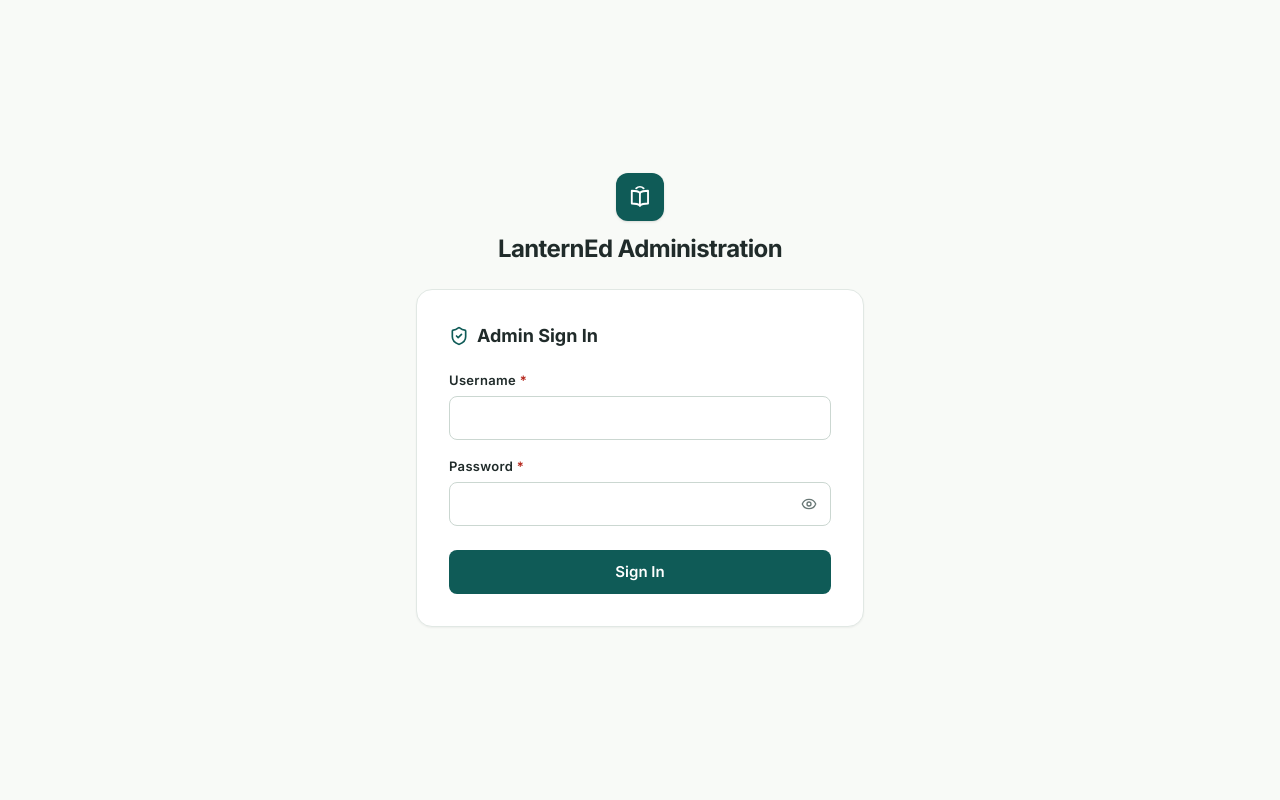
Test case: admin panel › signs in, lists colleges, and only reports a creation after the server confirms it
The image size is (1280, 800).
In the field labelled "Username *": (640, 418) top-left (449, 396), bottom-right (831, 440), type "admin"
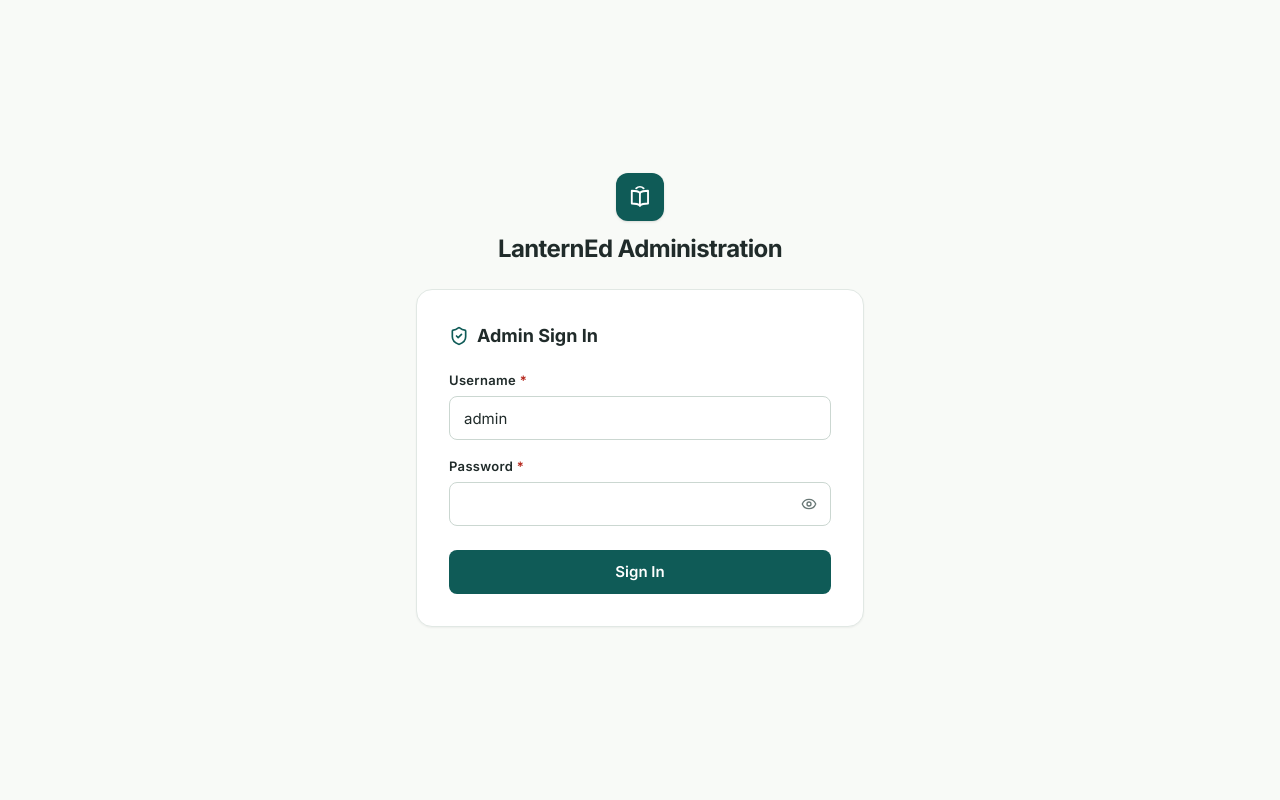
In the password field labelled "Password *": (640, 504) top-left (449, 482), bottom-right (831, 526), type "any-password"
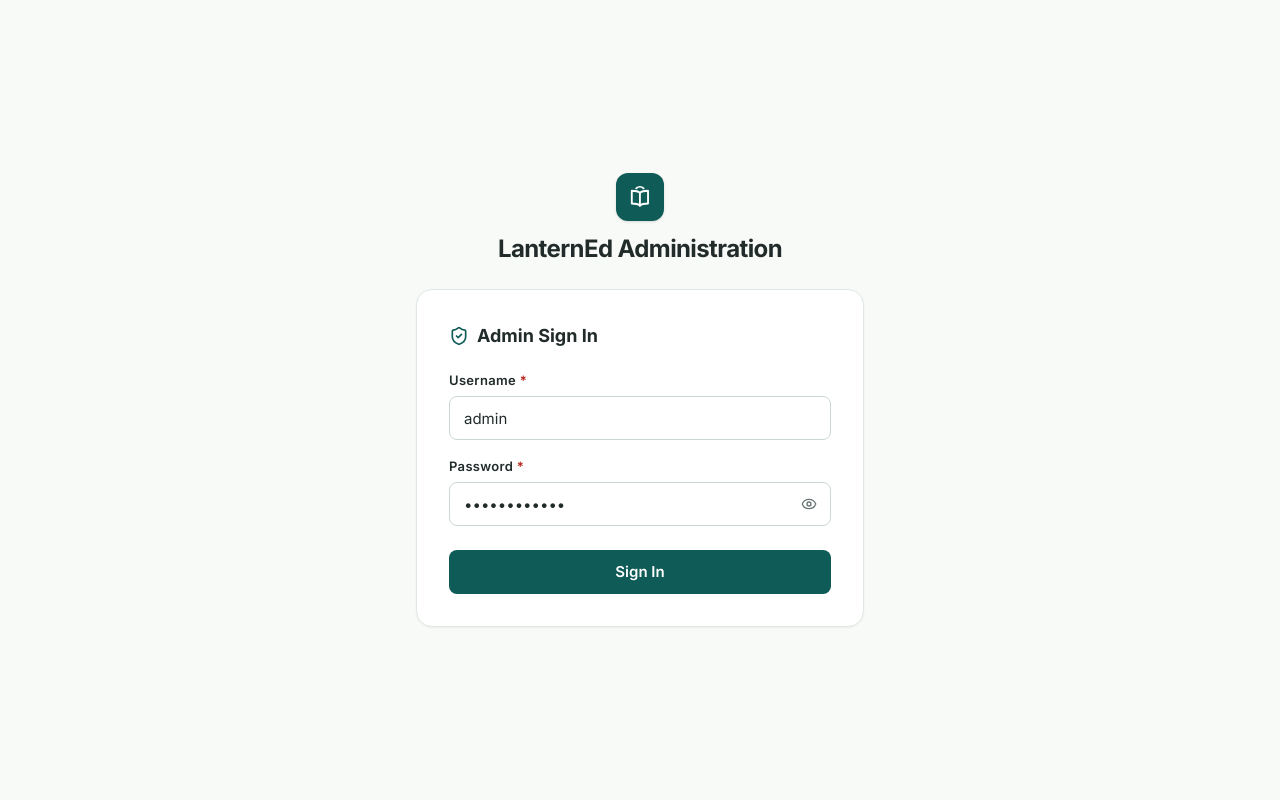
Click the button "Sign In": (640, 572) top-left (449, 550), bottom-right (831, 594)
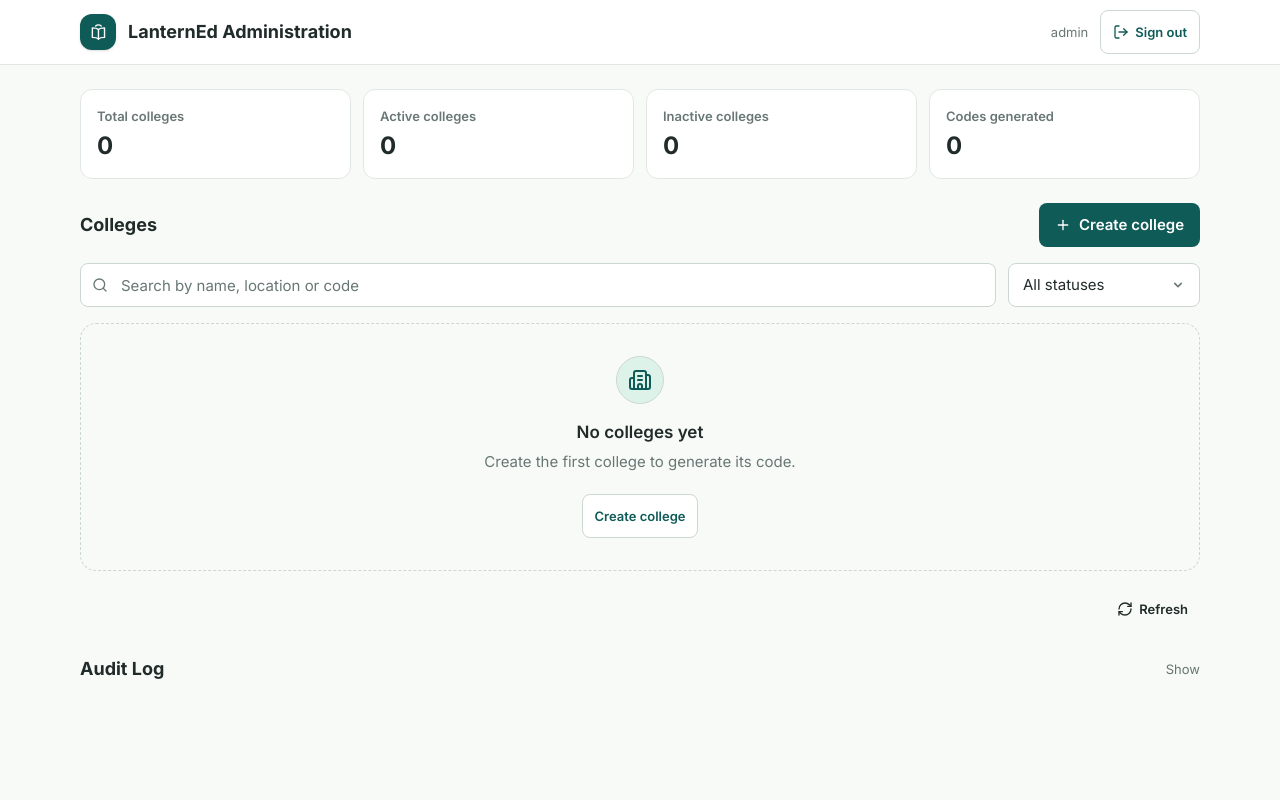
Now the heading "No colleges yet" is shown, box top-left (577, 420), bottom-right (703, 446)
Click the 1st button "Create college": (1120, 225) top-left (1039, 203), bottom-right (1200, 247)
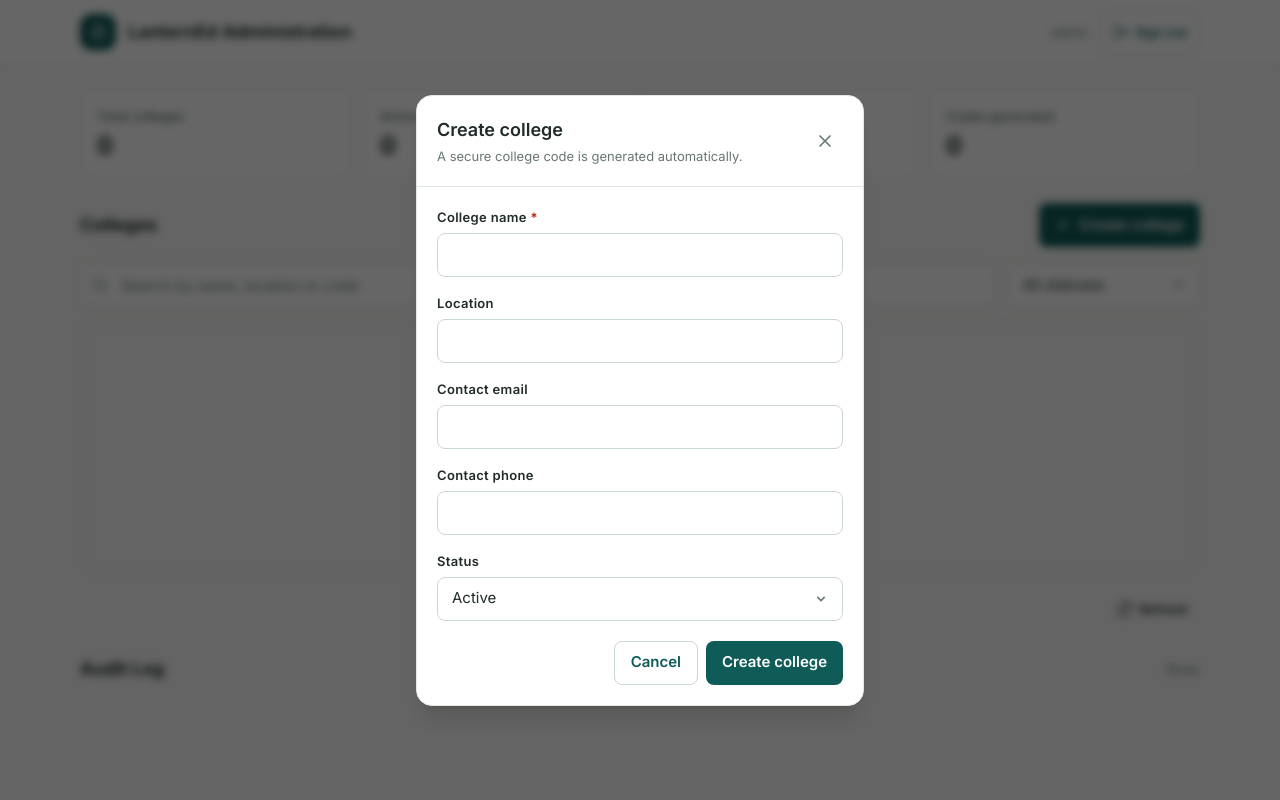
In the field labelled "College name *": (640, 254) top-left (437, 232), bottom-right (843, 276), type "Rural Science College"
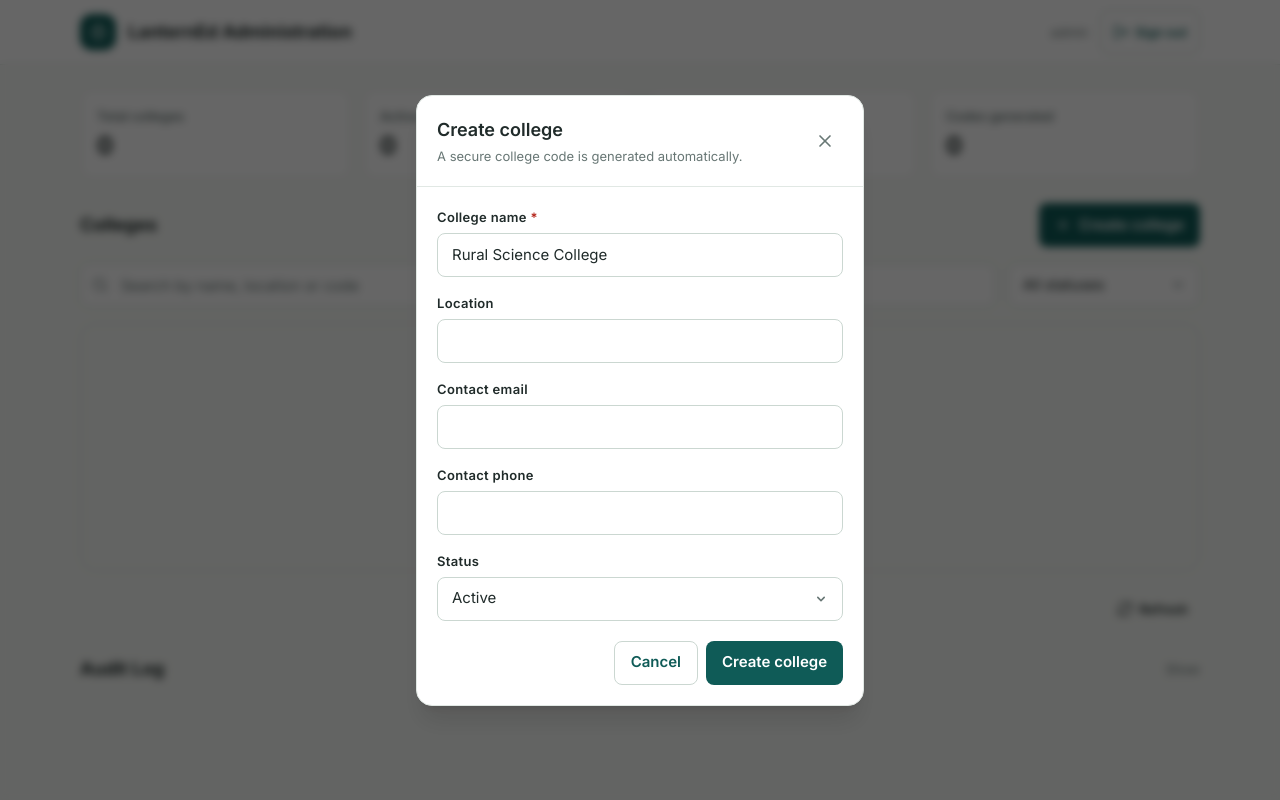
Click the button "Create college": (774, 662) top-left (706, 640), bottom-right (843, 684)
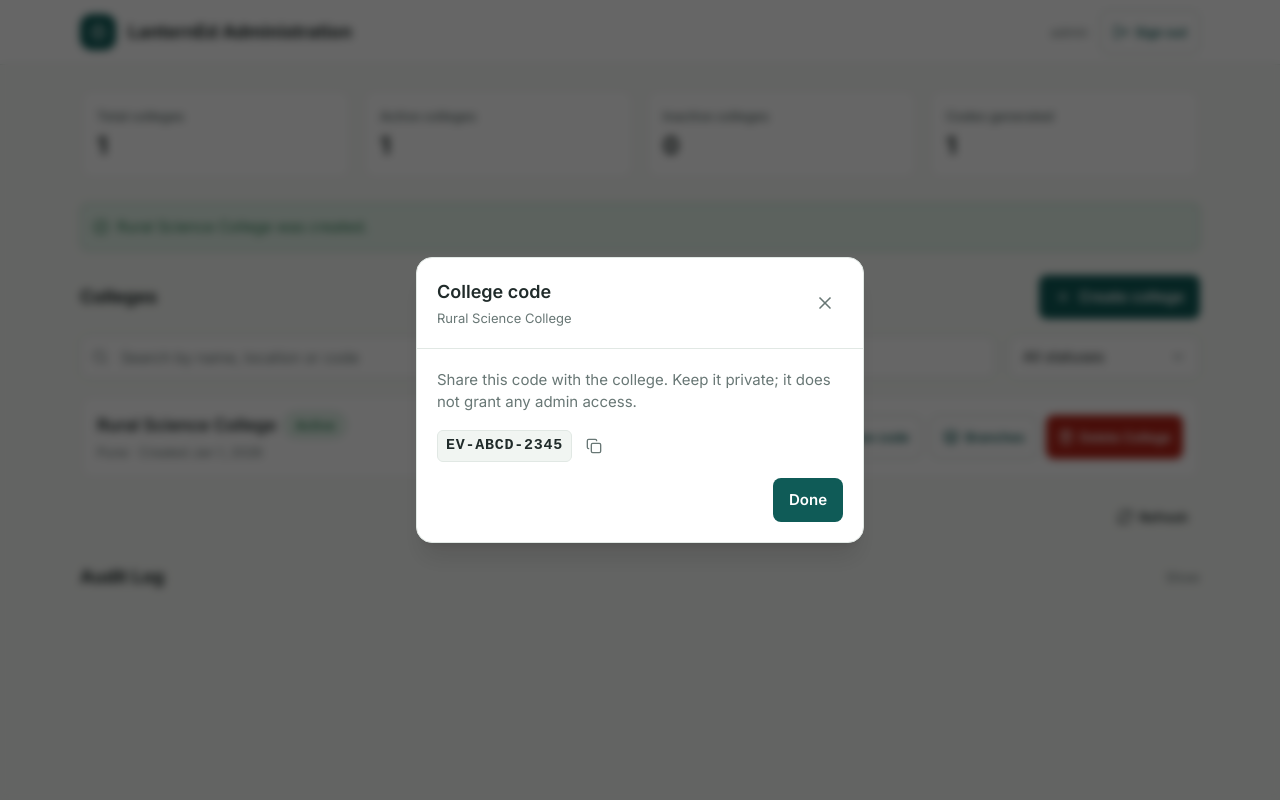
Expected: the text with test id "stat-total-colleges" reads "1", top-left (97, 131), bottom-right (107, 160)
Now the text "EV-ABCD-2345" is shown, box top-left (437, 430), bottom-right (572, 462)
